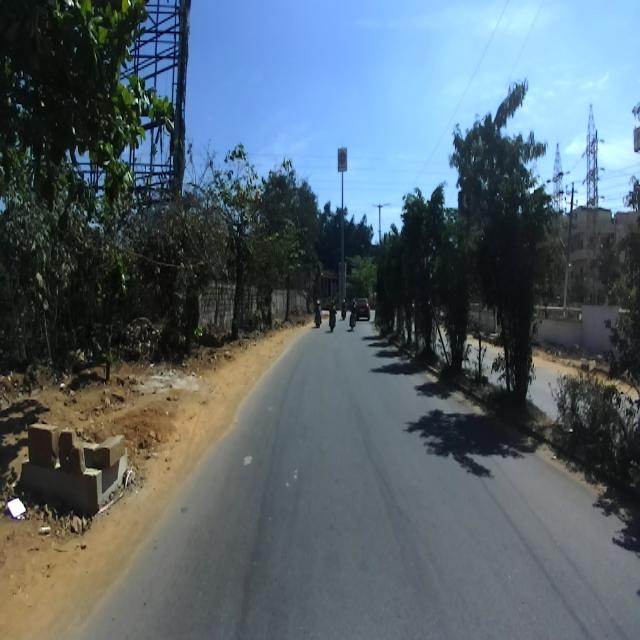stones ahead at: (17, 415, 135, 511)
